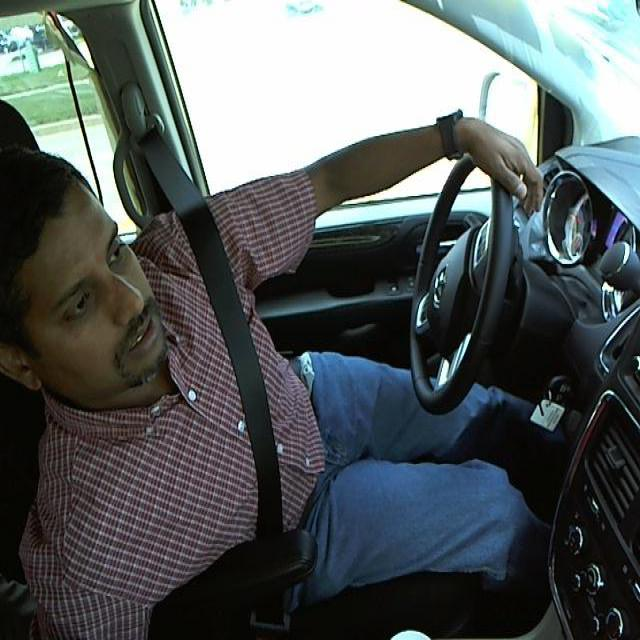seatbelt: (157, 177, 310, 583)
